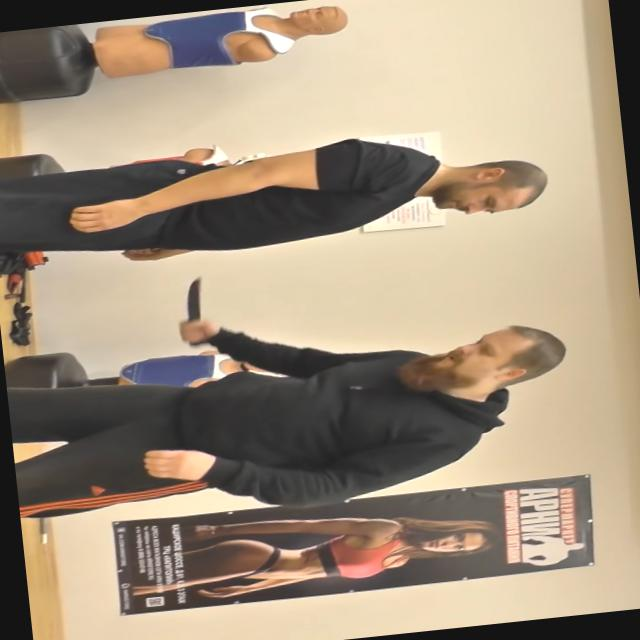knife: (166, 271, 221, 351)
